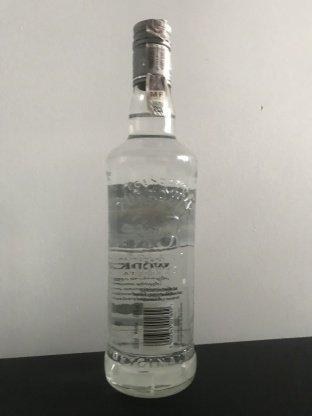nakretka: (130, 16, 174, 88)
